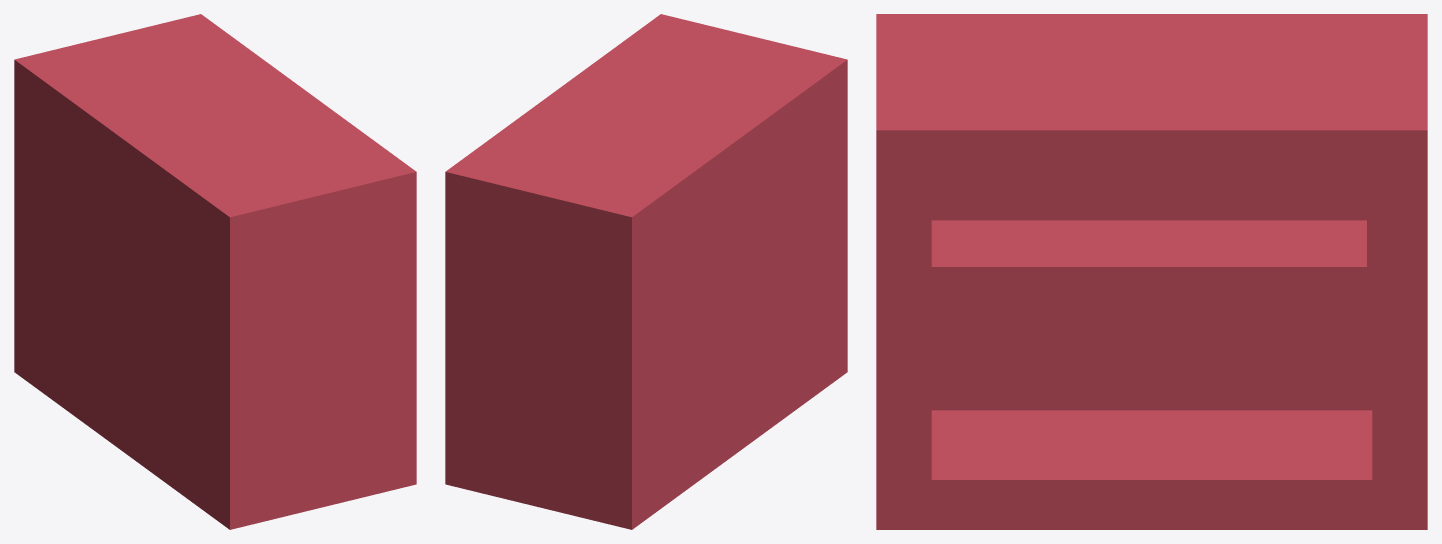
File: vitrina.glb
3 views of the same model, side by side, from view 1: azimuth 30°, elevation 25°; view 2: azimuth 150°, elevation 25°; view 3: azimuth 270°, elevation 25° (orthographic). The views are drawn at different scales.
Parts seen in each view (by area): view 1: Mesh_Mesh_head_geo.001_lambert2SG.001; view 2: Mesh_Mesh_head_geo.001_lambert2SG.001; view 3: Mesh_Mesh_head_geo.001_lambert2SG.001.
Boxes of the visible parts, x1=… form: Mesh_Mesh_head_geo.001_lambert2SG.001: x1=14, y1=14, x2=416, y2=529; Mesh_Mesh_head_geo.001_lambert2SG.001: x1=445, y1=14, x2=847, y2=529; Mesh_Mesh_head_geo.001_lambert2SG.001: x1=876, y1=14, x2=1427, y2=529.
Size of the model in its own units: 0.05 by 0.08 by 0.1.
